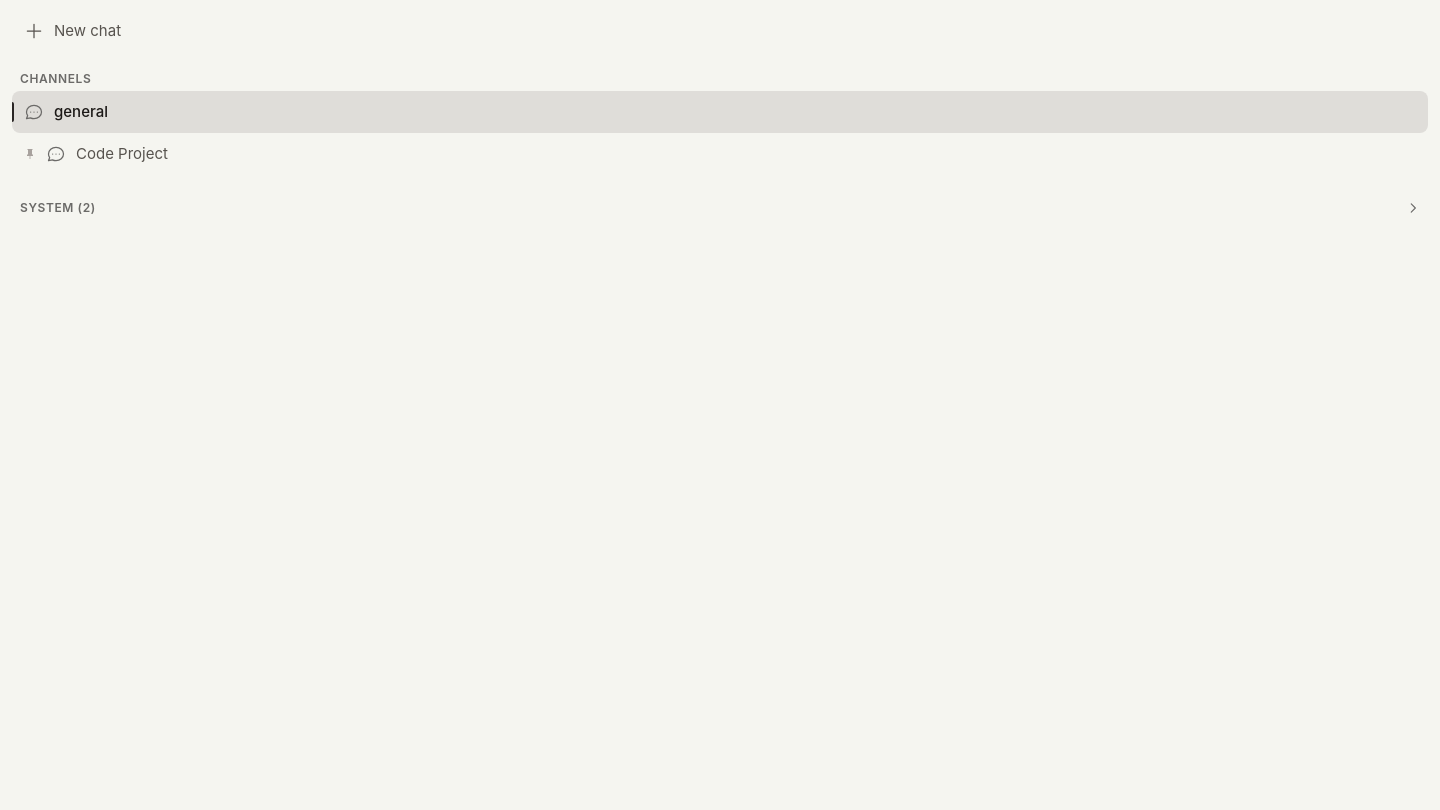
Test: delete confirmation › shows confirmation dialog when Delete is clicked
Right-click the button "general" at {"x": 81, "y": 111}, box x1=12 y1=90 x2=1428 y2=133
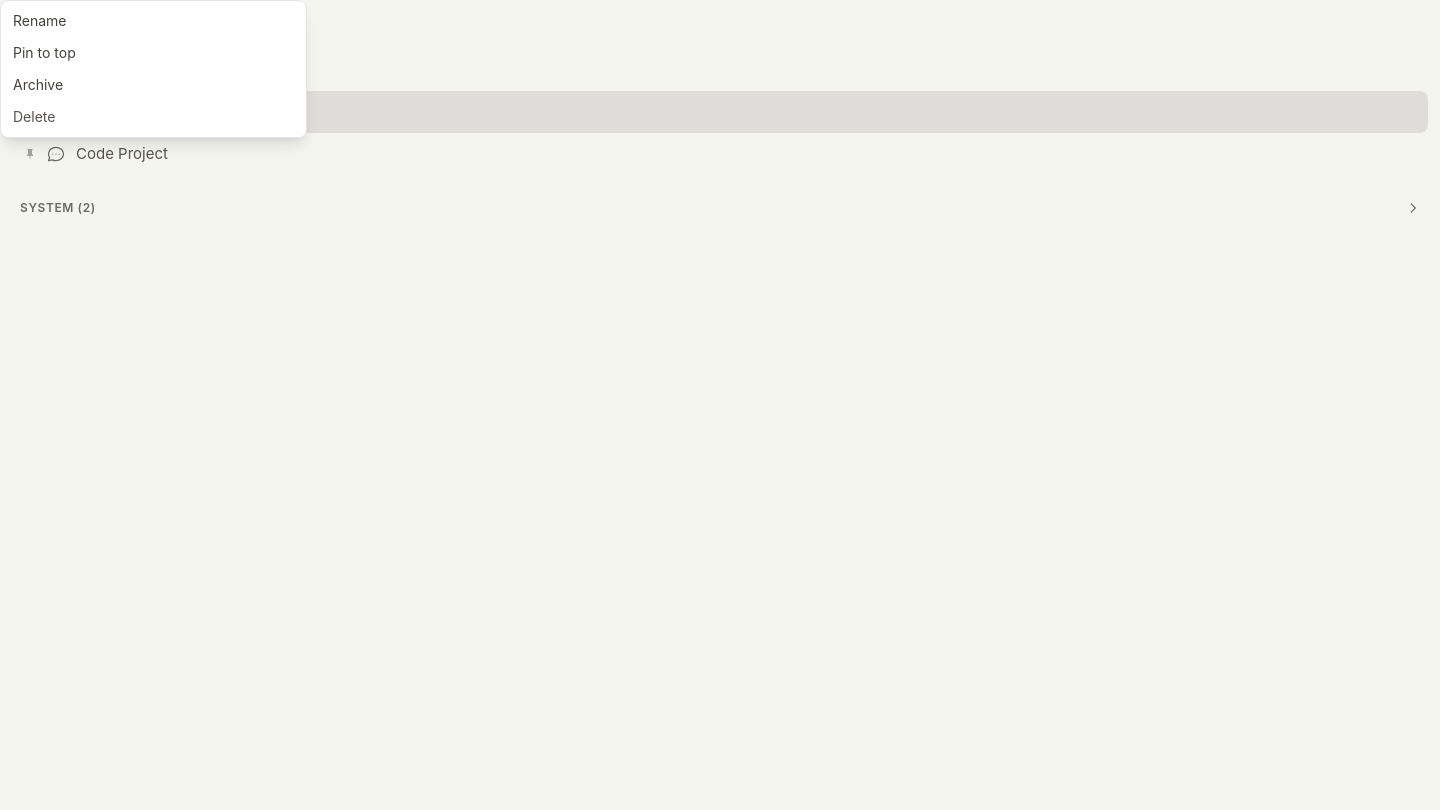
Click the button "Delete" at {"x": 34, "y": 116}, box x1=1 y1=101 x2=306 y2=133
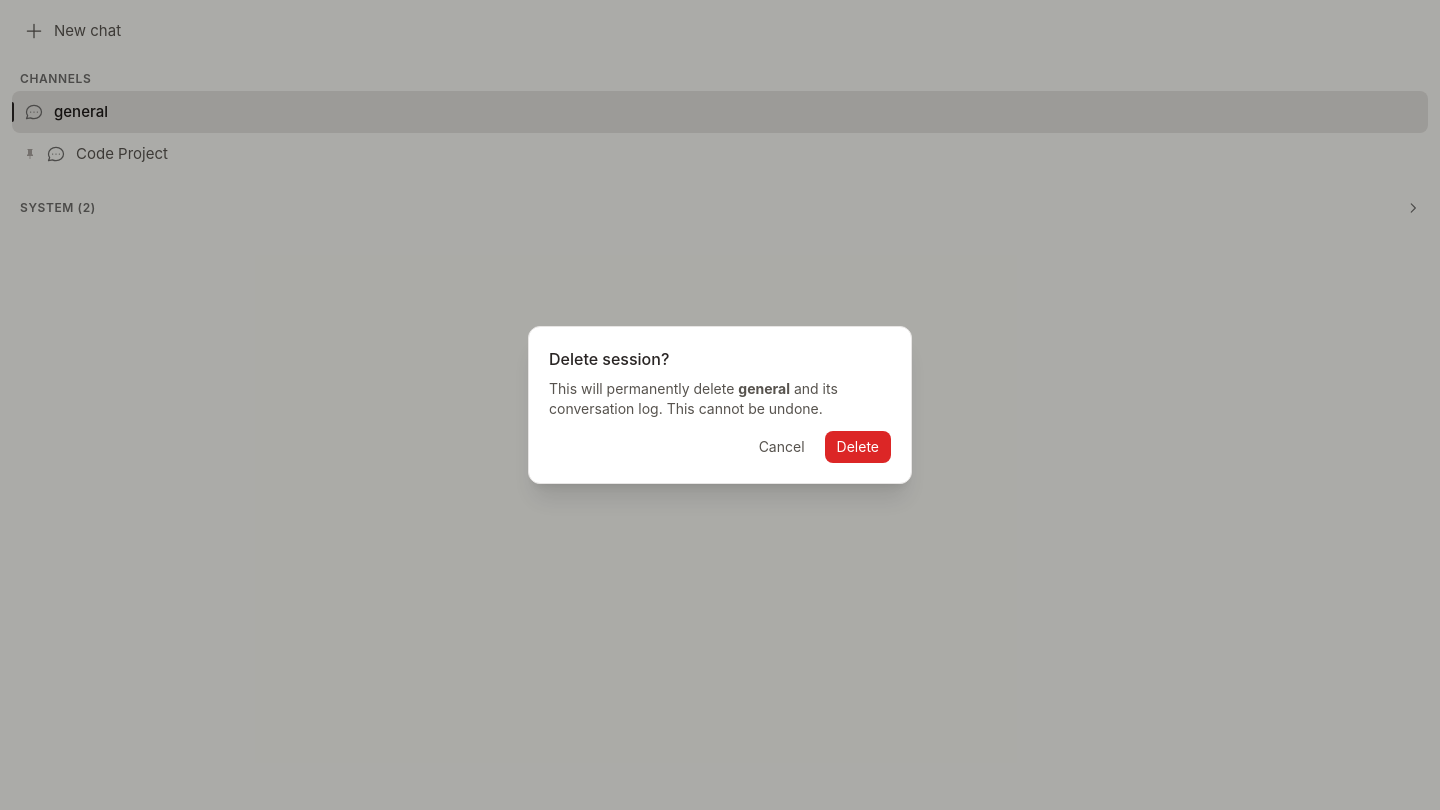
Expected: the heading "Delete session?" is shown, x1=549 y1=349 x2=669 y2=369
Expected: the text "permanently delete" is shown, x1=549 y1=380 x2=738 y2=397
